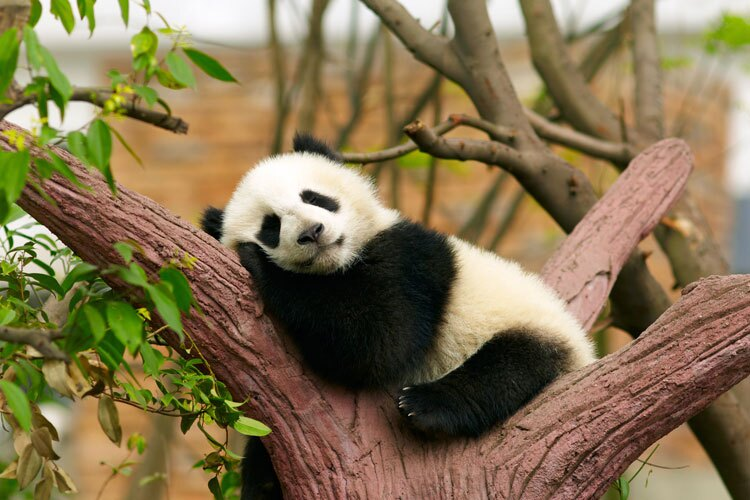panda: (185, 119, 653, 450)
